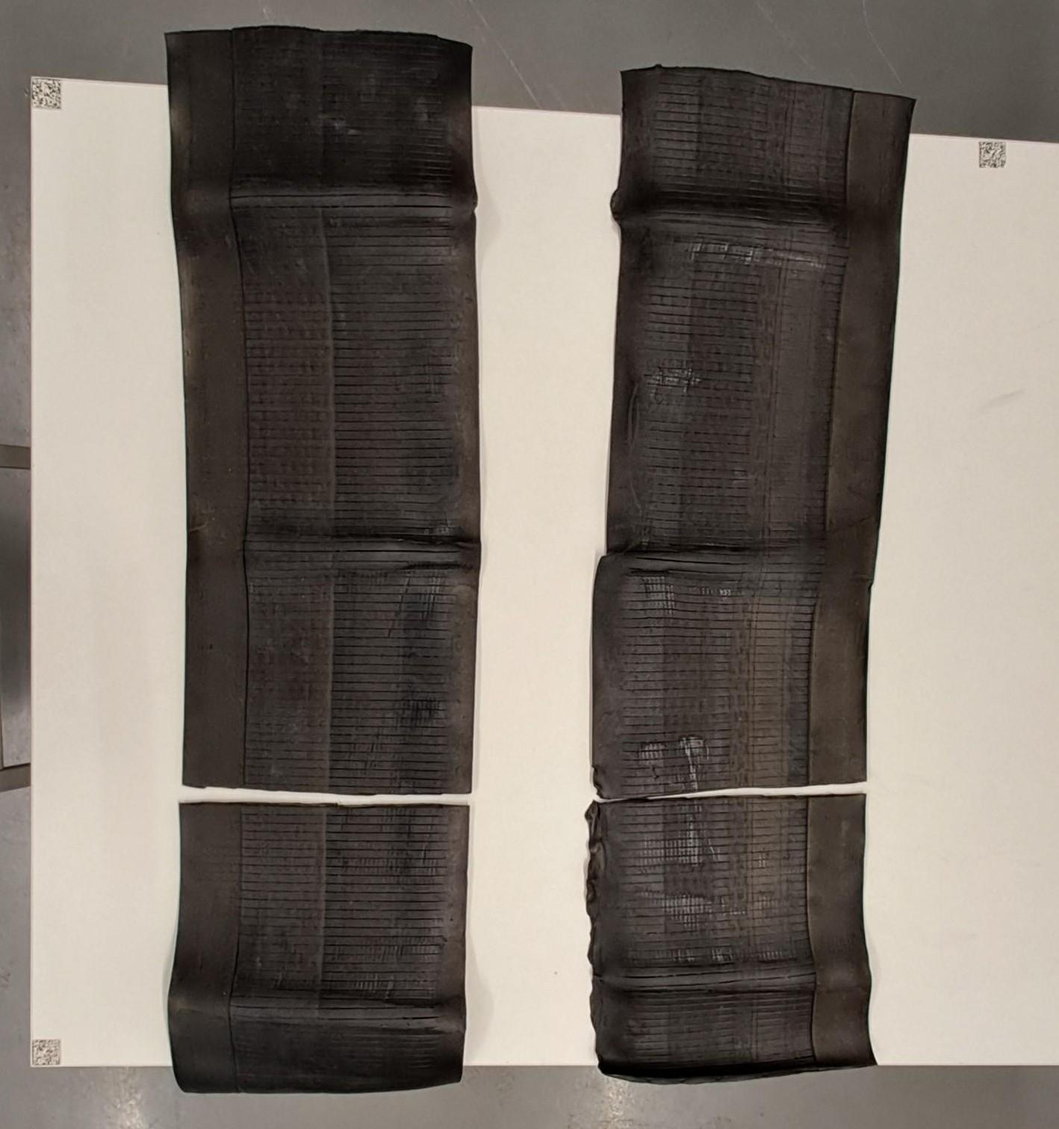cut_edge: (178, 786, 471, 806), (594, 782, 866, 802)
qr_code: (31, 78, 60, 109), (978, 141, 1006, 168), (32, 1039, 60, 1064)
